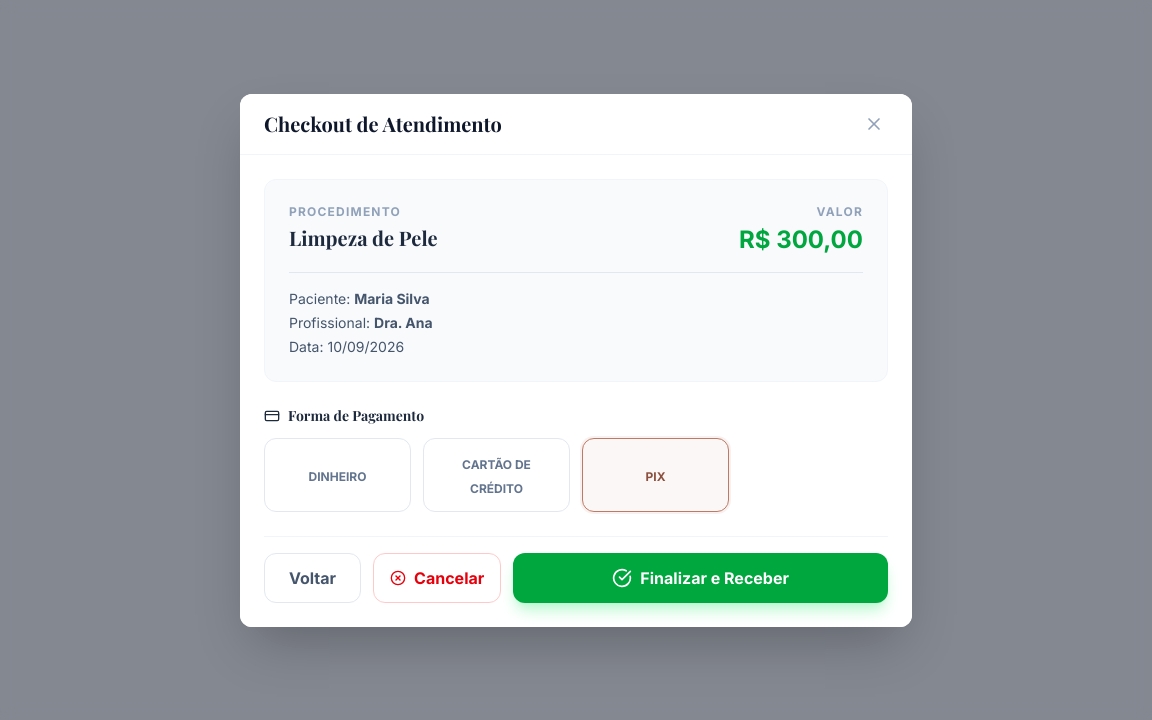
Scenario: CheckoutModal — caminho feliz › parcelamento em 3x reflete no resumo: "3x de R$ 100,00"
This screenshot has width=1152, height=720.
# seleciona cartão de crédito → aparece a grade de parcelamento
Click the button "Cartão de Crédito": (496, 474) [423, 438, 570, 512]
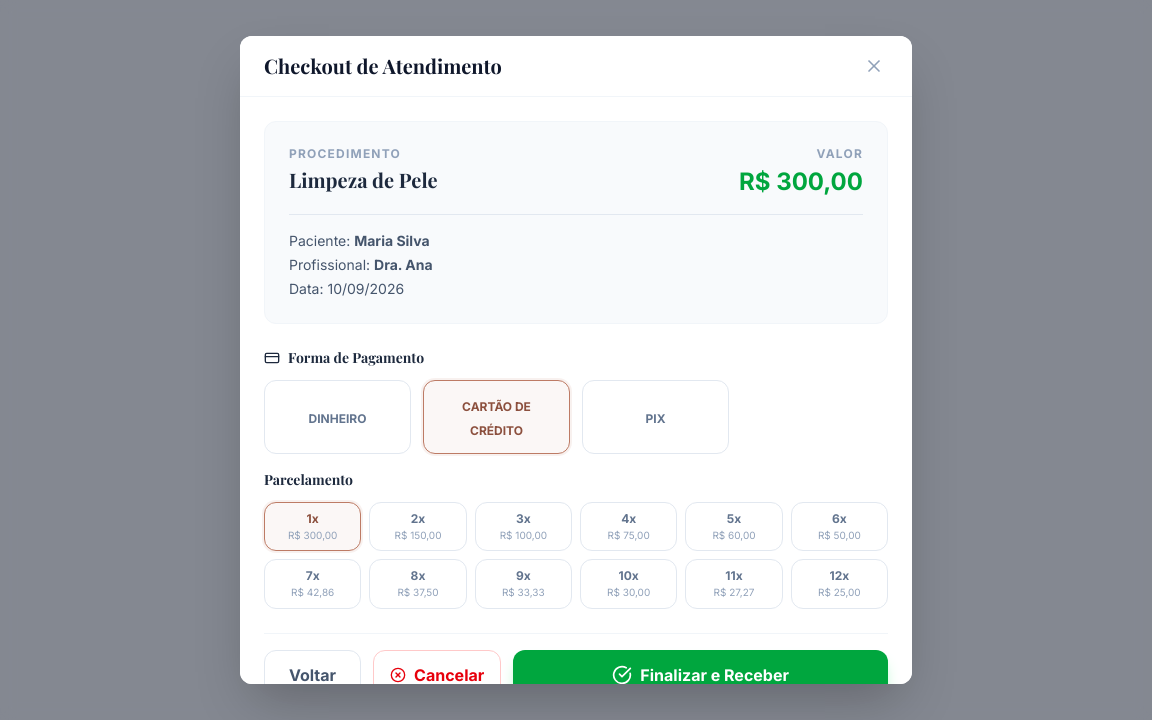
expect the text "R$ 150,00" is shown: met, box [394, 529, 442, 541]
expect the text "R$ 100,00" is shown: met, box [500, 529, 547, 541]
expect the text "R$ 50,00" is shown: met, box [818, 529, 861, 541]
# seleciona 3x e finaliza
Click the button "3x R$ 100,00": (523, 527) [475, 502, 572, 551]
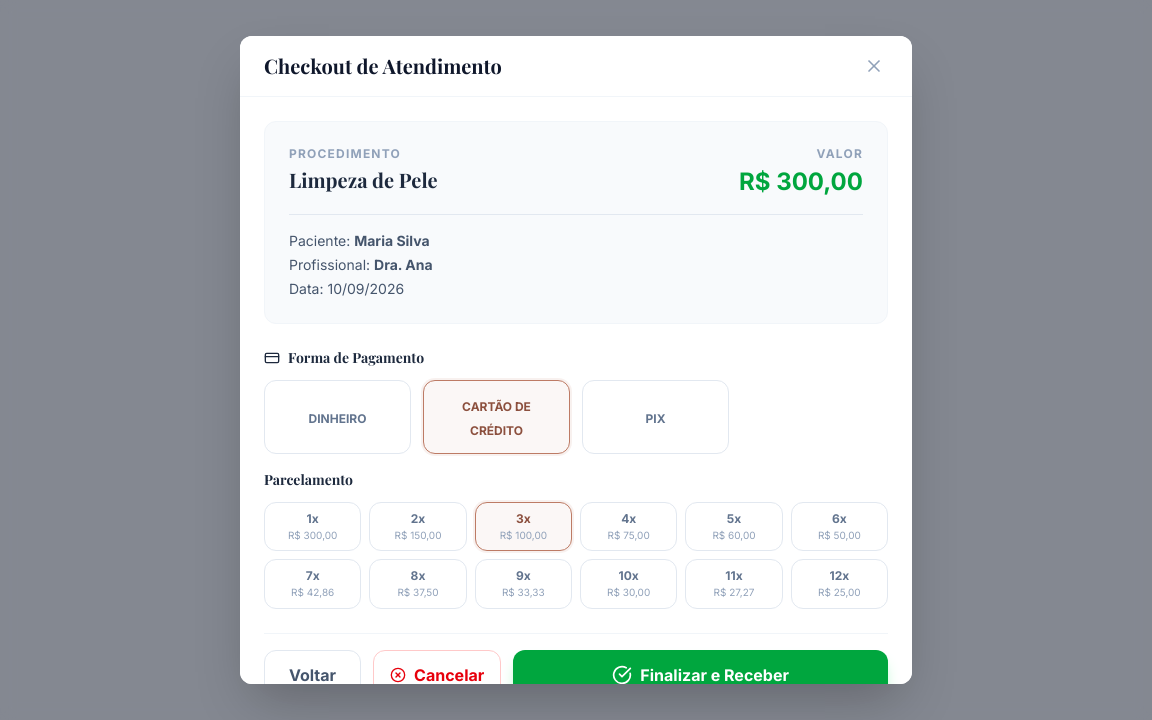
expect the button "3x R$ 100,00" has class "ring-2": met, box [475, 502, 572, 551]
Click the button "Finalizar e Receber": (701, 675) [513, 650, 888, 700]
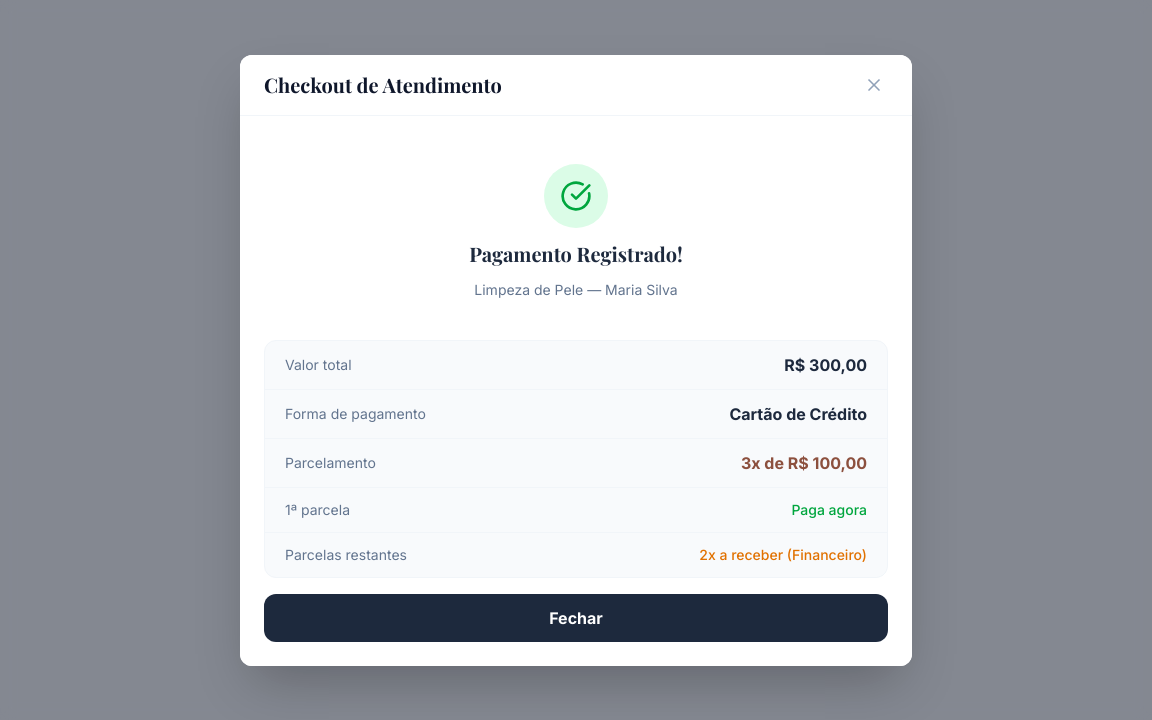
expect the heading "Pagamento Registrado!" is shown: met, box [469, 240, 683, 268]
expect the text "3x de R$ 100,00" is shown: met, box [741, 450, 867, 474]
